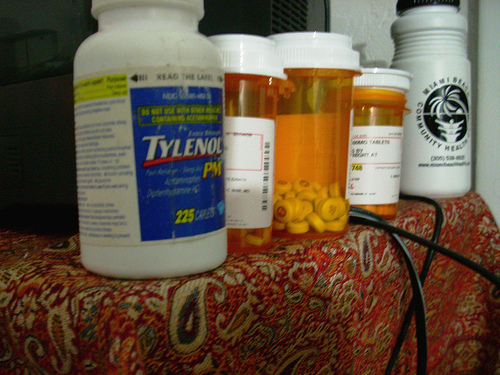pill bottle: (270, 30, 357, 236), (224, 33, 282, 252), (352, 68, 408, 220)
